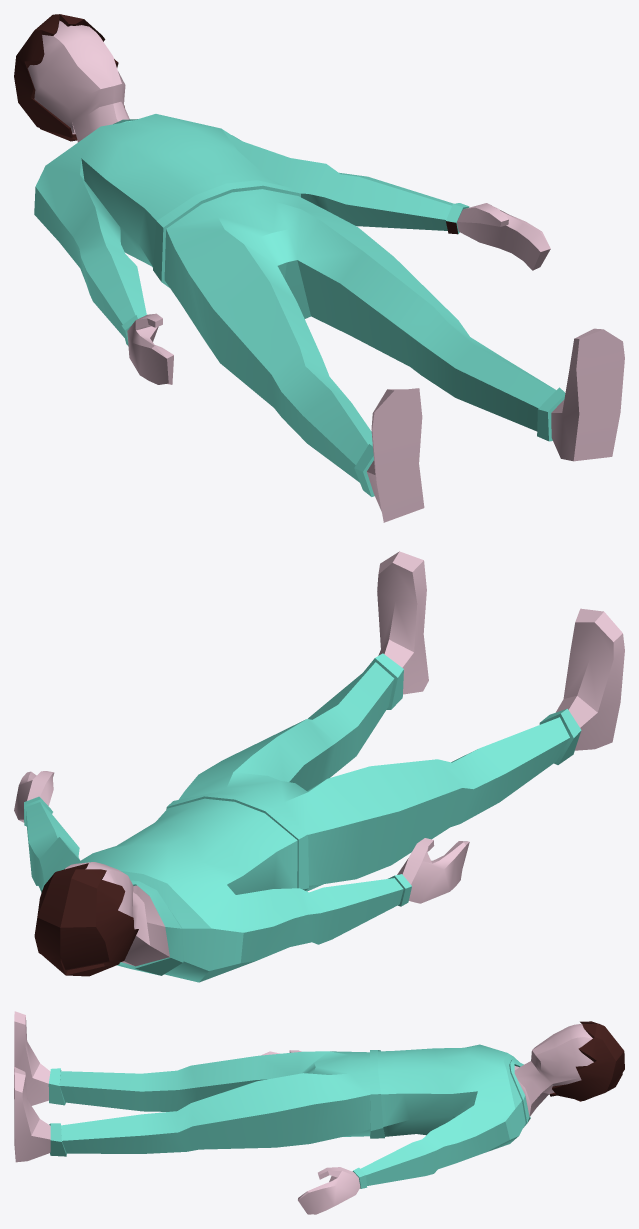
File: patient_pose_02.fbx
The picture shows the model from 3 angles, top to bottom: view 1: azimuth 30°, elevation 25°; view 2: azimuth 150°, elevation 25°; view 3: azimuth 270°, elevation 25°; orthographic projection. The views are drawn at different scales.
Visible parts, largest first — view 1: Patient; view 2: Patient; view 3: Patient.
Part boxes in pixels (bbox=[...]): Patient: bbox=[14, 14, 624, 522]; Patient: bbox=[14, 551, 624, 982]; Patient: bbox=[14, 1011, 624, 1214].
Bounding box in the file's own units: 91.39 × 34.26 × 173.
